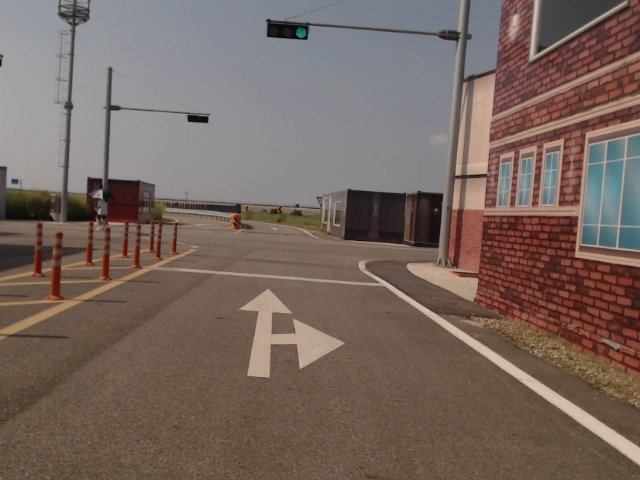green_3: (267, 22, 308, 40)
